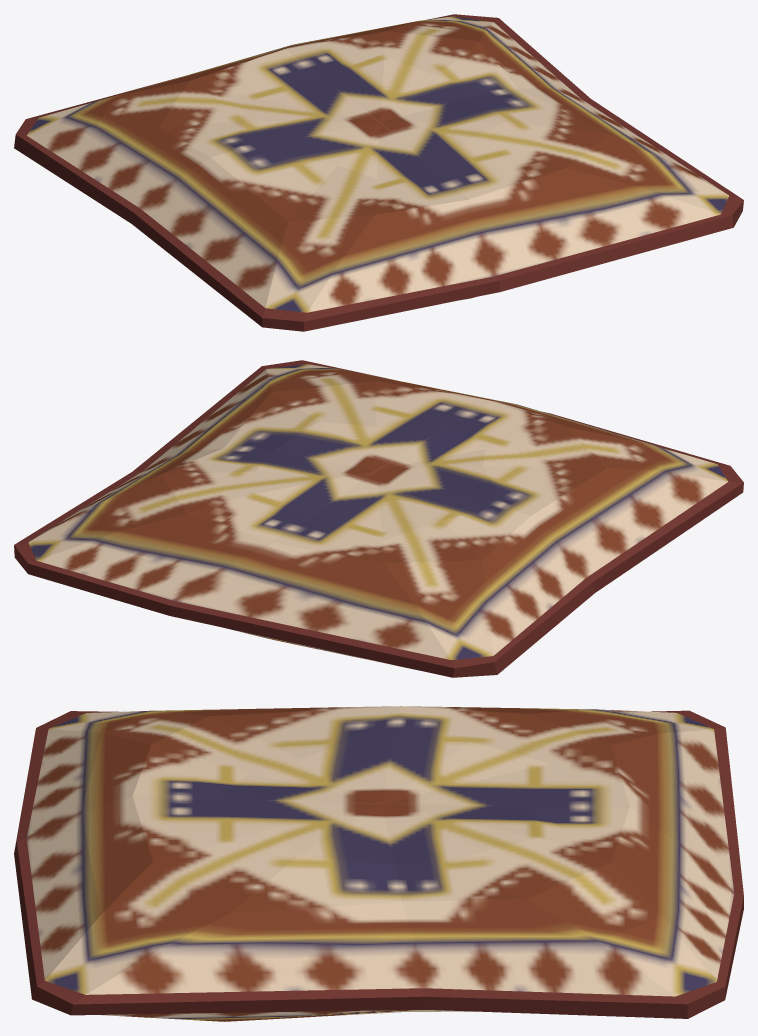
Rendered from SM_Prop_Pillow_02.fbx.
3 renders of one model, top to bottom at view 1: azimuth 30°, elevation 25°; view 2: azimuth 150°, elevation 25°; view 3: azimuth 270°, elevation 25°, orthographic. The views are drawn at different scales.
Parts seen in each view (by area): view 1: SM_Prop_Pillow_02; view 2: SM_Prop_Pillow_02; view 3: SM_Prop_Pillow_02.
Boxes of the visible parts, x1,y1,x2,y2 form: SM_Prop_Pillow_02: (14,14,743,331); SM_Prop_Pillow_02: (14,360,743,677); SM_Prop_Pillow_02: (14,706,743,1021).
Bounding box in the file's own units: 80.93 × 17.34 × 84.82.
